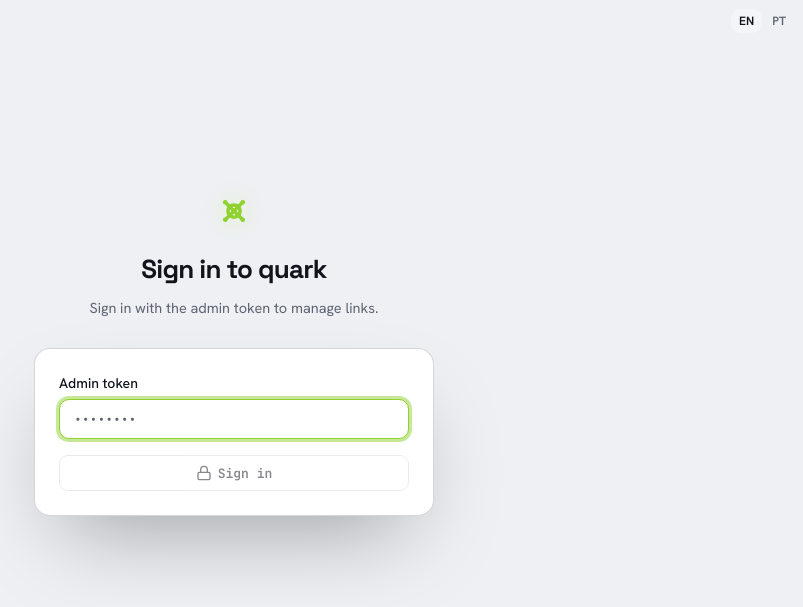
Scenario: Login › invalid token (401) shows a specific error
In the password field labelled "Admin token": point(234, 419) [59,399,409,439], type "wrong"
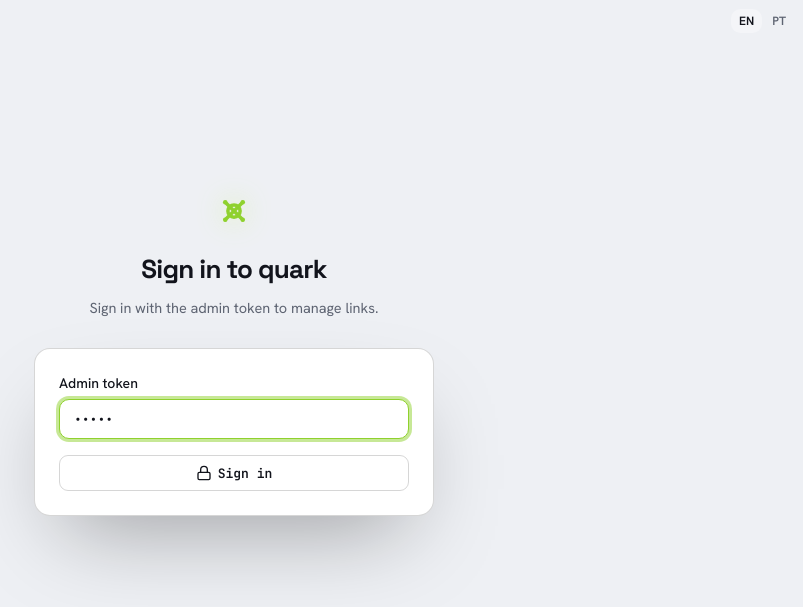
Click the button "Sign in": point(234, 473) [59,455,409,491]
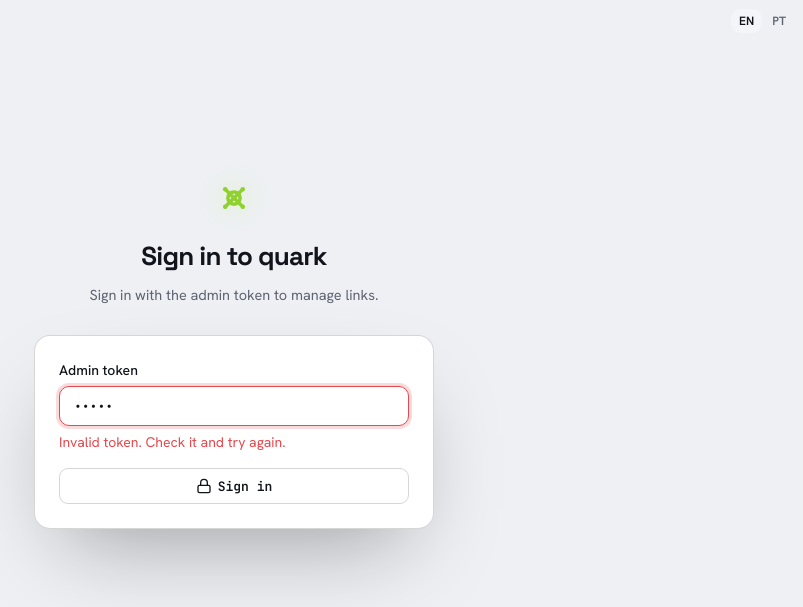
Check: the text "Invalid token. Check it and try again." is shown, box [59,433,286,451]
